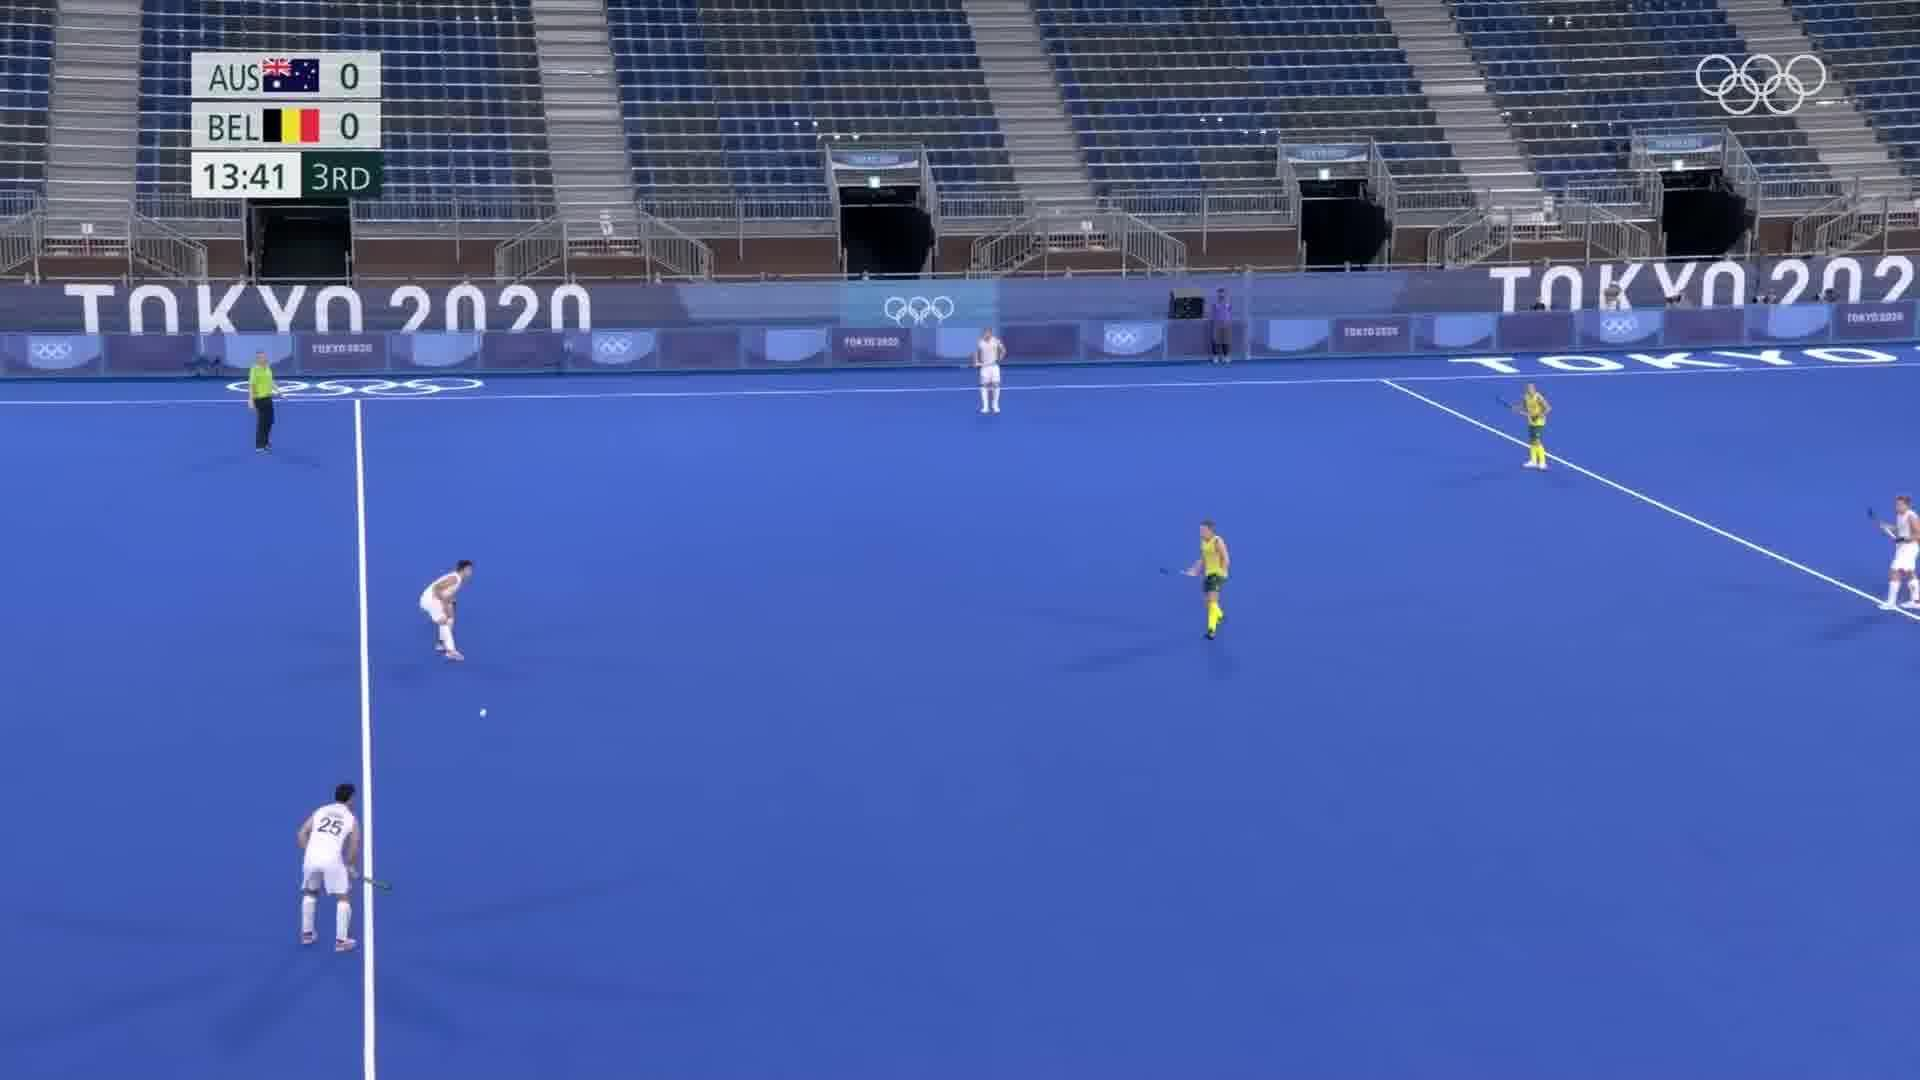ball: (473, 704, 491, 723)
